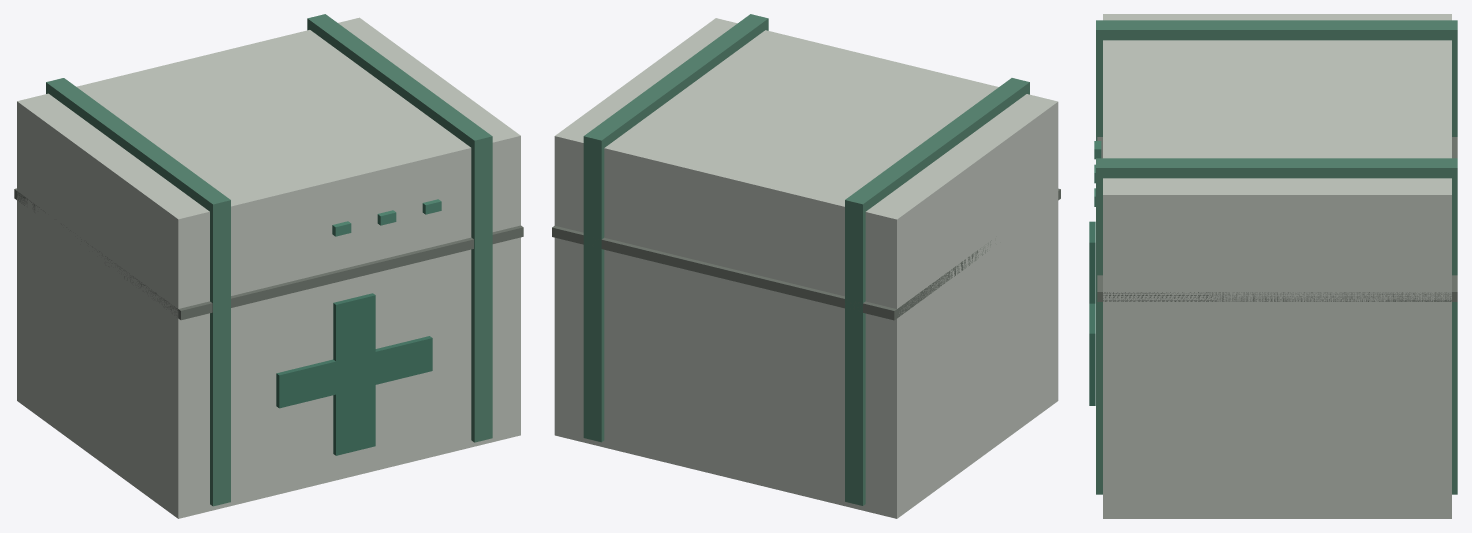
File: CMU3DMedicalStorageChest.glb
The picture shows the model from 3 angles, left to right: view 1: azimuth 30°, elevation 25°; view 2: azimuth 150°, elevation 25°; view 3: azimuth 270°, elevation 25°; orthographic projection. The views are drawn at different scales.
Parts seen in each view (by area): view 1: medical chest body, green case edging (×2), cross vertical, cross horizontal, lid seam; view 2: medical chest body, green case edging (×2), lid seam; view 3: medical chest body, green case edging (×2), lid seam, cross vertical, cross horizontal.
Part boxes in pixels (bbox=[...]): medical chest body: bbox=[17, 17, 520, 518]; green case edging (×2): bbox=[46, 14, 492, 506]; cross vertical: bbox=[333, 293, 375, 455]; cross horizontal: bbox=[276, 336, 432, 408]; lid seam: bbox=[14, 188, 523, 320]; medical chest body: bbox=[554, 18, 1058, 518]; green case edging (×2): bbox=[583, 14, 1029, 505]; lid seam: bbox=[552, 188, 1060, 320]; medical chest body: bbox=[1103, 14, 1451, 518]; green case edging (×2): bbox=[1096, 20, 1457, 494]; lid seam: bbox=[1097, 137, 1457, 301]; cross vertical: bbox=[1089, 221, 1095, 405]; cross horizontal: bbox=[1089, 303, 1095, 369].
Size of the model in its own units: 0.76 by 0.655 by 0.654.
